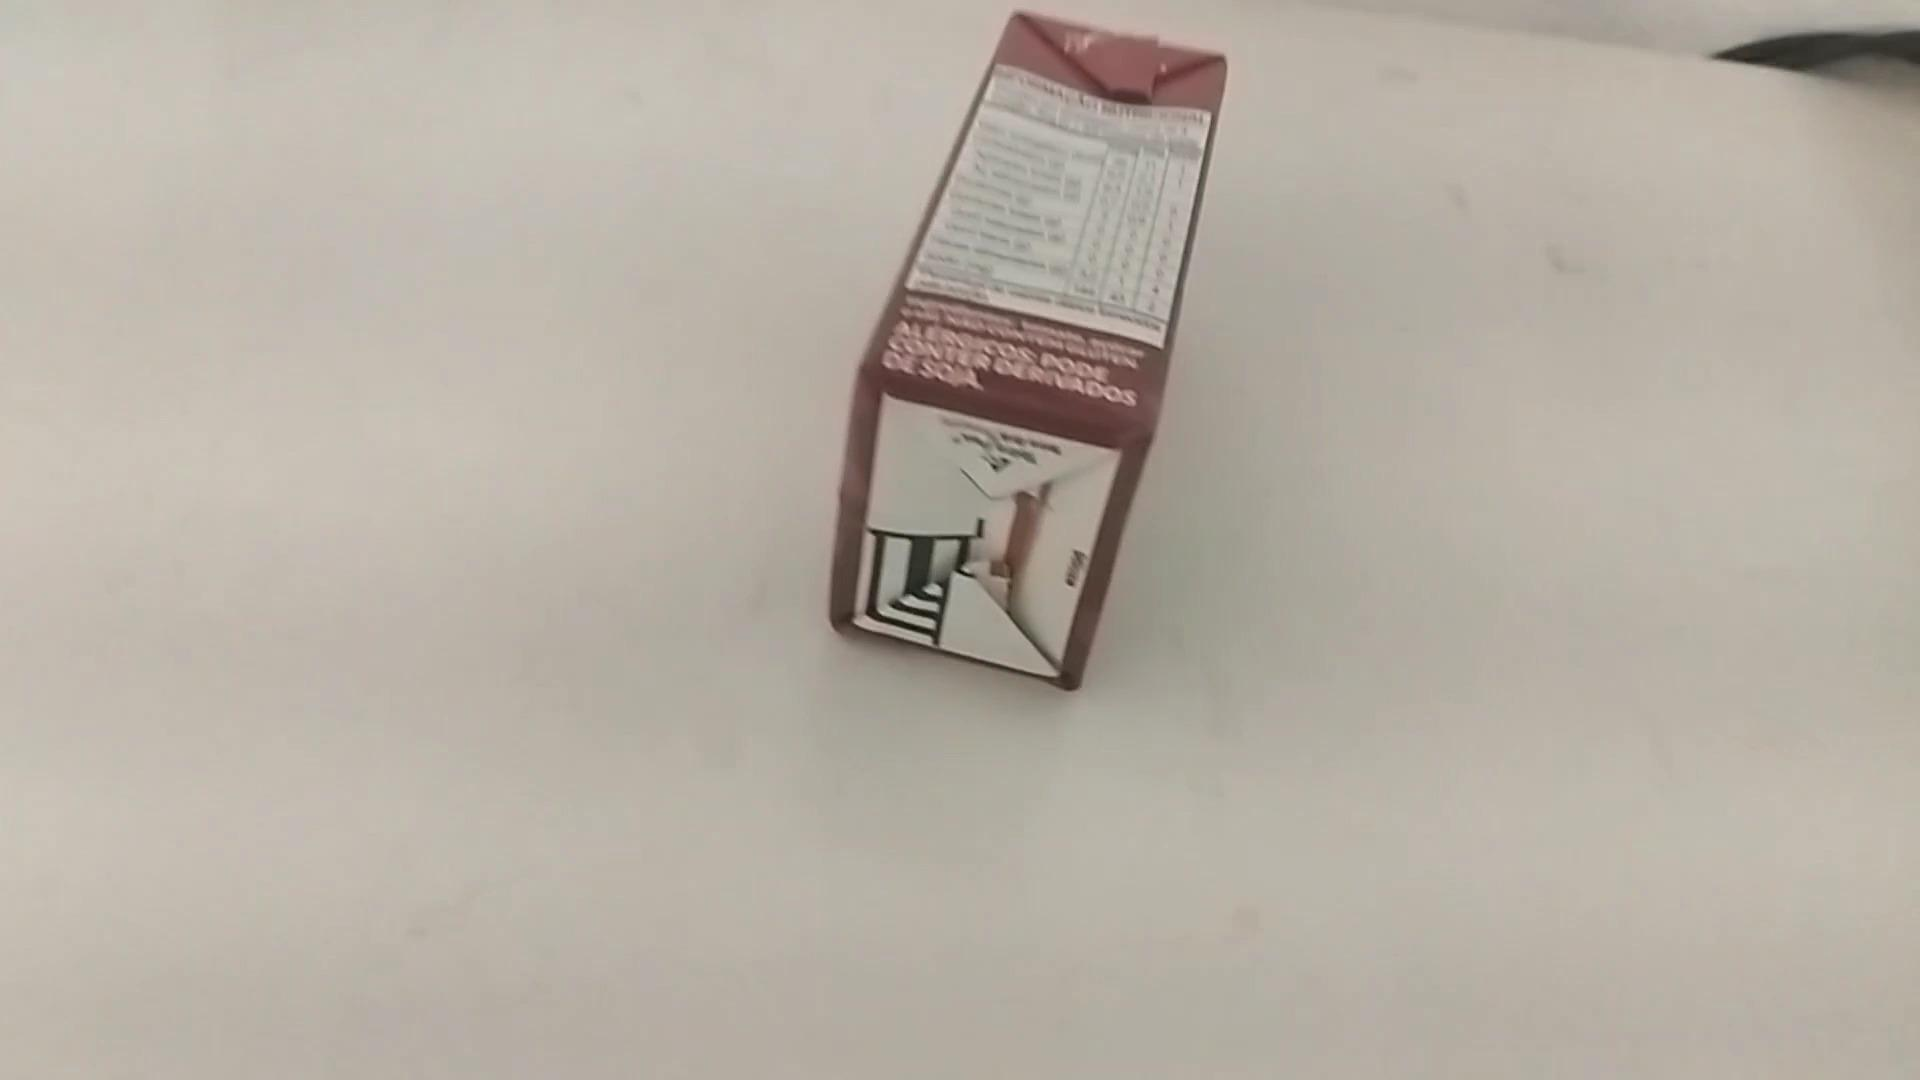tomate: (811, 0, 1290, 717)
